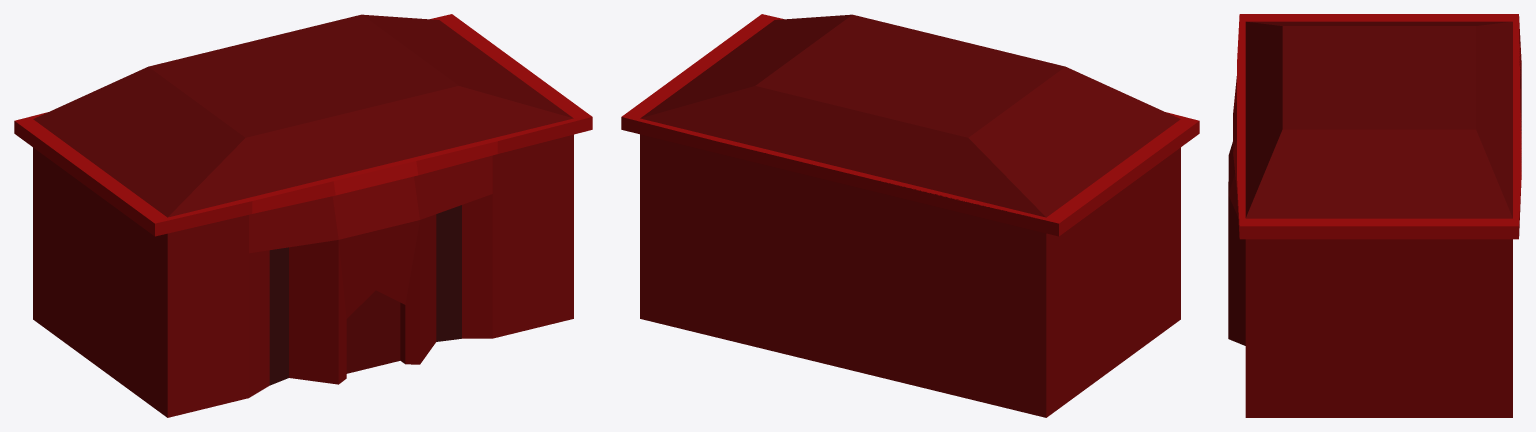
The model's file is club.fbx.
3 views of the same model, side by side, from view 1: azimuth 30°, elevation 25°; view 2: azimuth 150°, elevation 25°; view 3: azimuth 270°, elevation 25° (orthographic).
Parts seen in each view (by area): view 1: Club; view 2: Club; view 3: Club.
Part boxes in pixels (<box>): Club: <box>14,14,592,417</box>; Club: <box>621,14,1199,417</box>; Club: <box>1228,14,1521,417</box>.
Size of the model in its own units: 3231 by 1714 by 1885.
